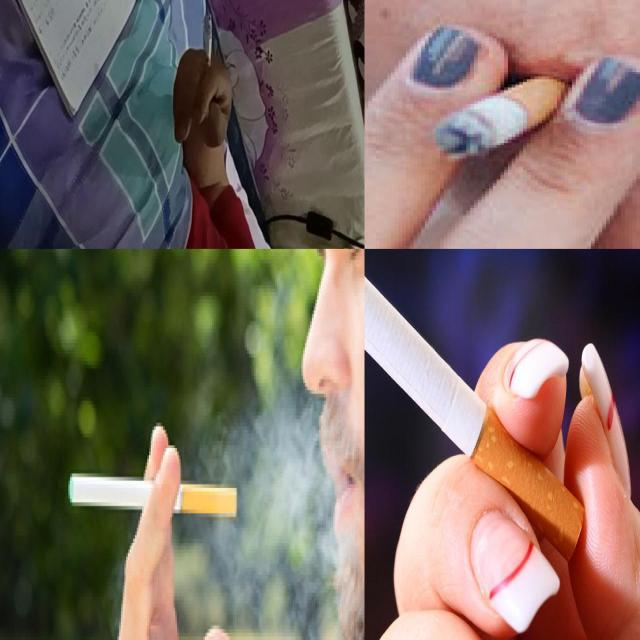smoking: (364, 248, 588, 566), (434, 74, 570, 158), (69, 470, 238, 518), (204, 12, 213, 82)
